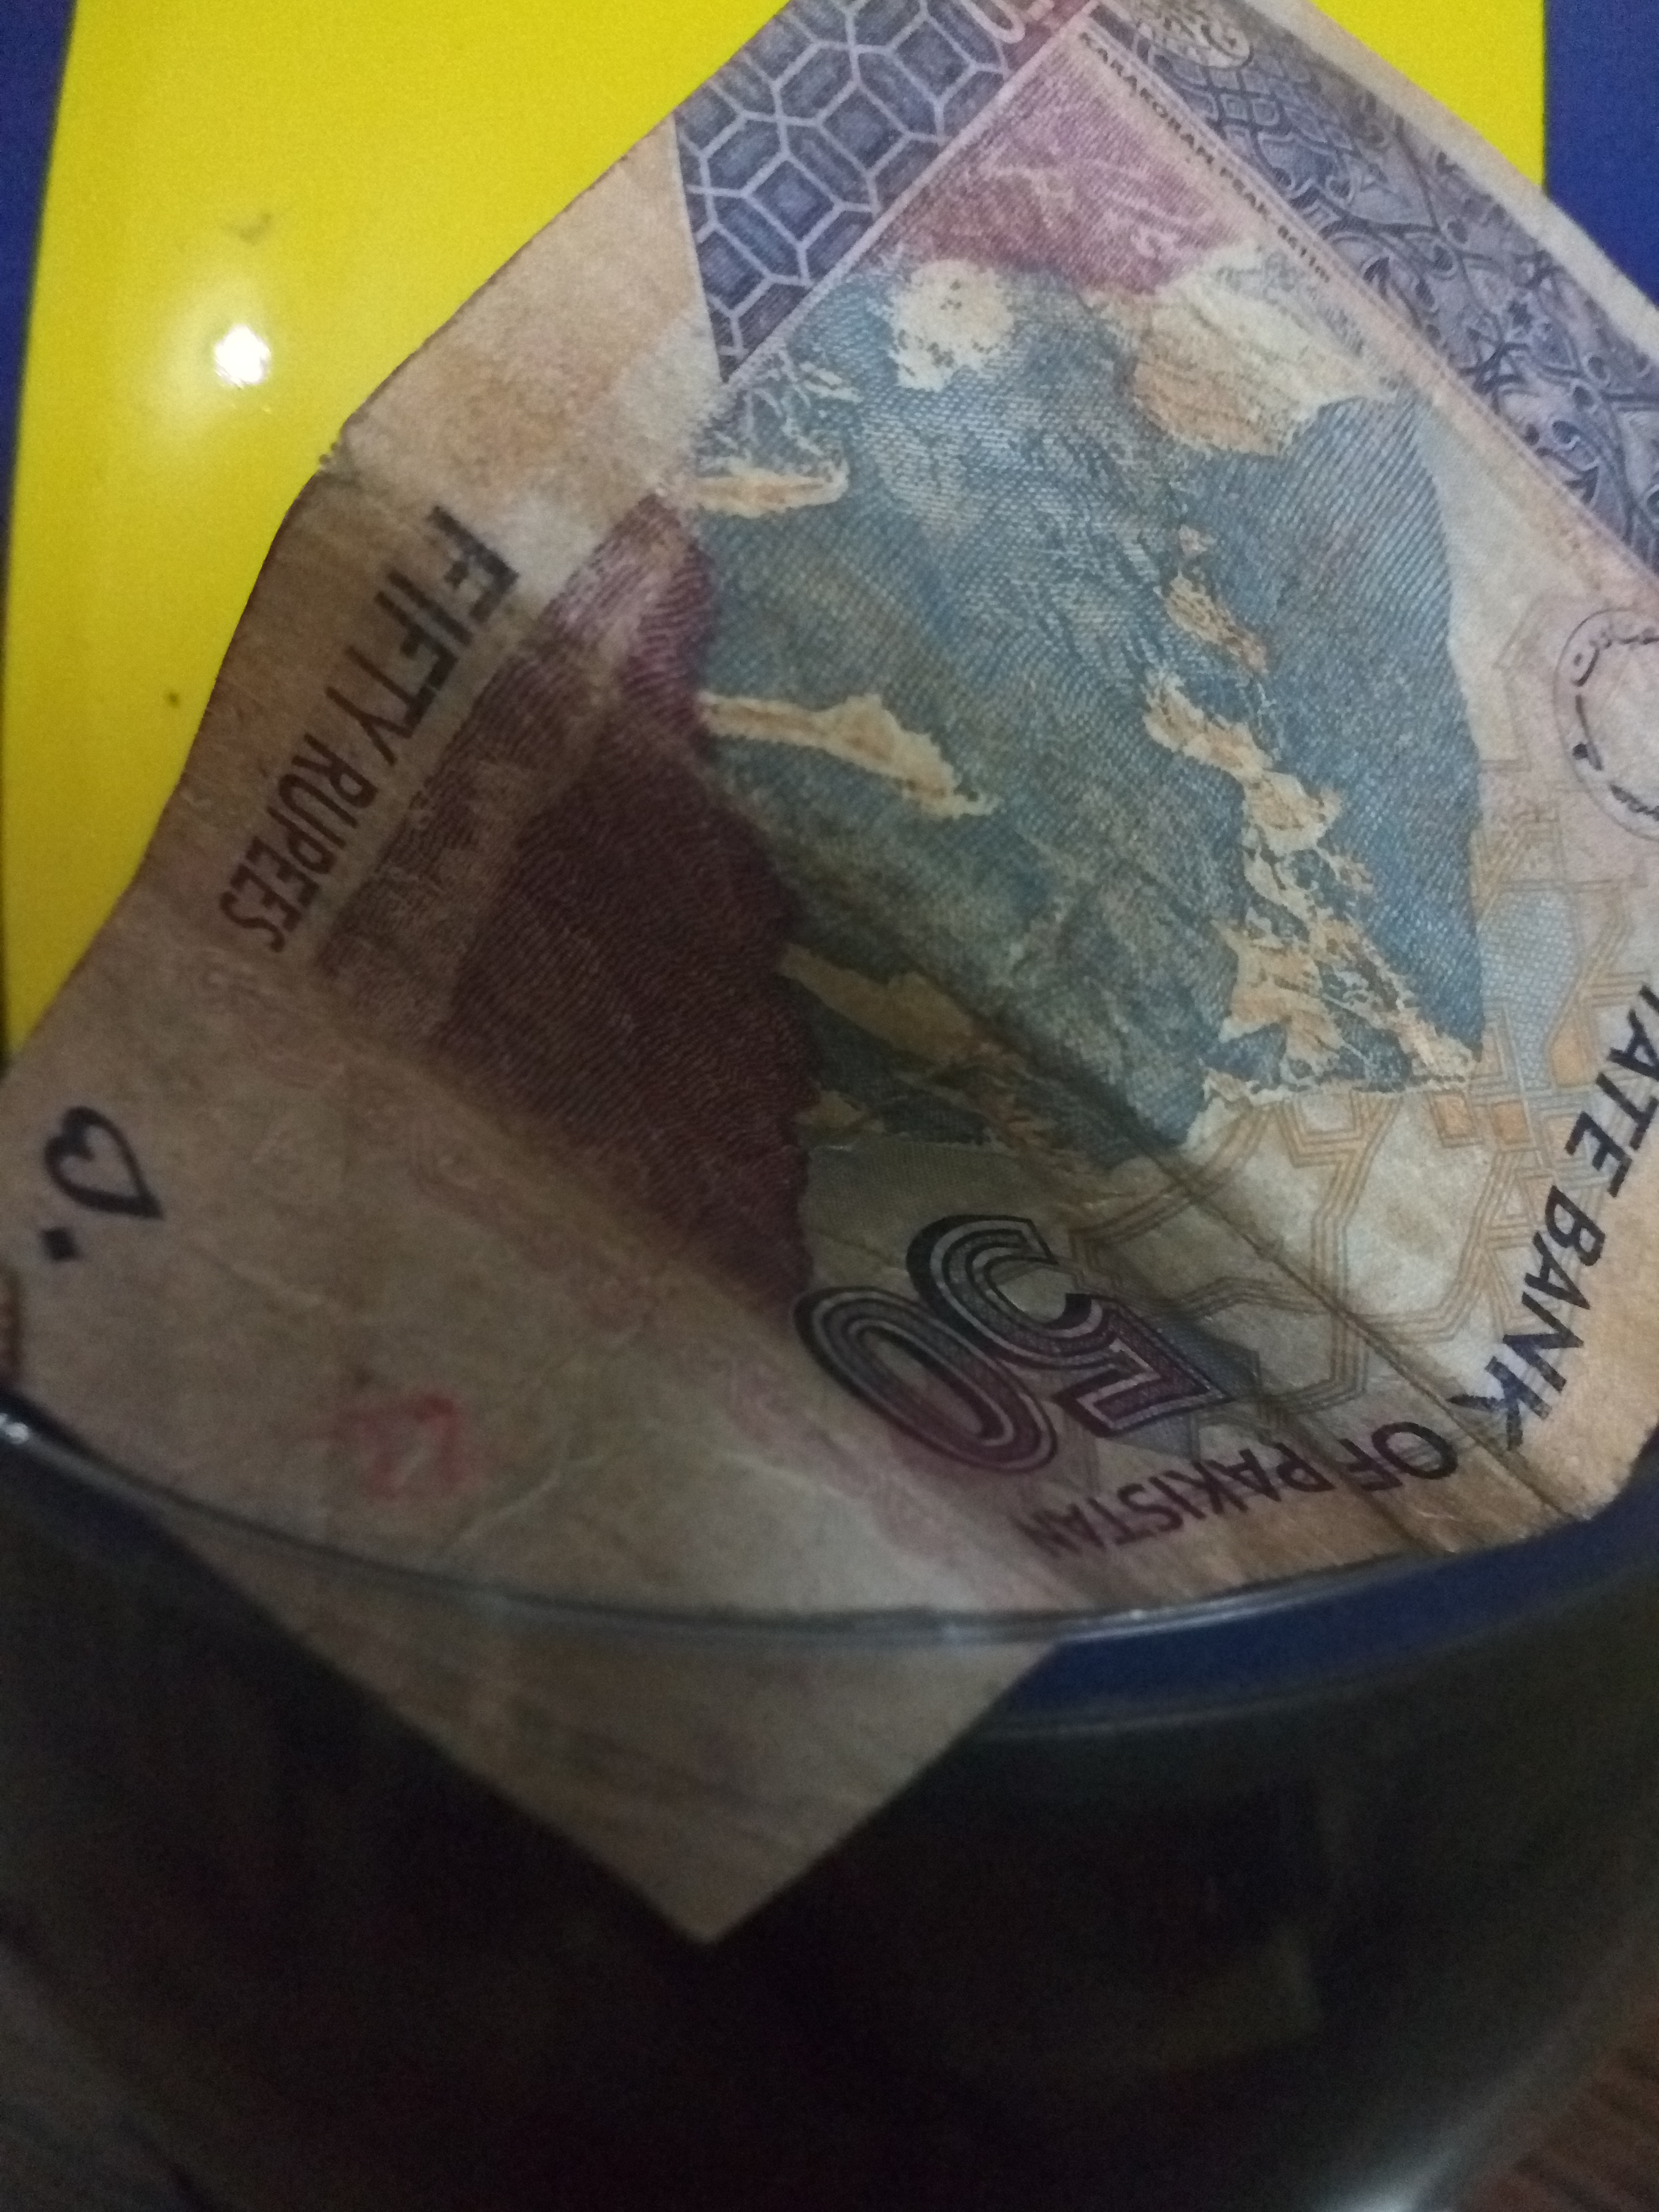50 rupee: (0, 33, 1624, 2005)
